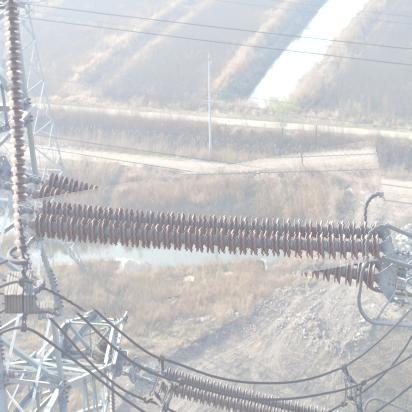insulator: (23, 156, 393, 307)
